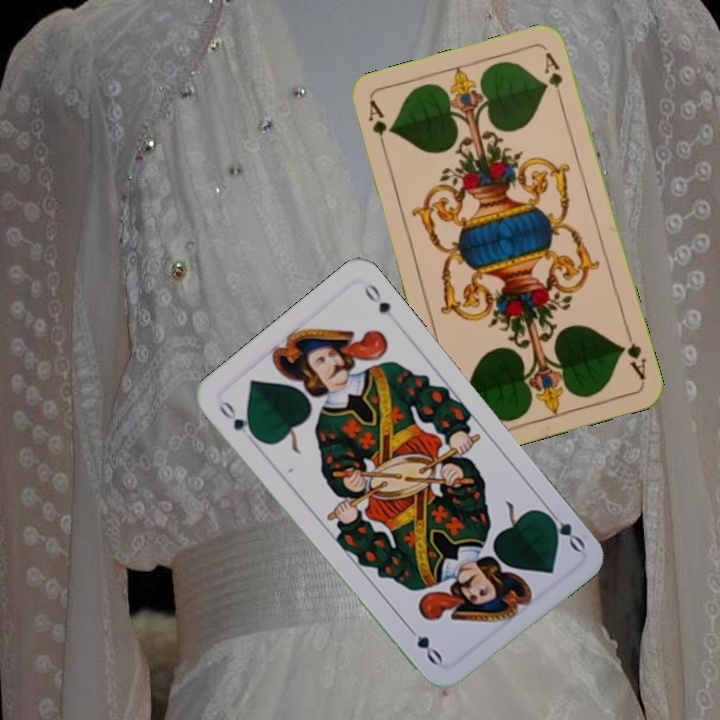GA: (616, 325, 649, 383), (364, 97, 389, 155)
GO: (539, 503, 588, 555), (214, 396, 261, 442)
